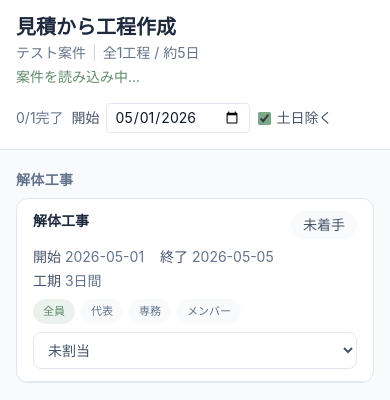
Scenario: ScheduleFromEstimatePage — 開始日変更 › 開始日を変更するとタスクの日付が再計算される
The image size is (390, 400).
In the date field with test id "start-date-input": (178, 118) [106,103,250,133], type "2026-06-01"
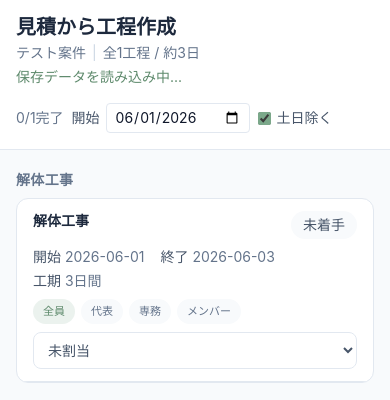
Expected: the text "2026-06-01" is shown, [65,248,144,265]
